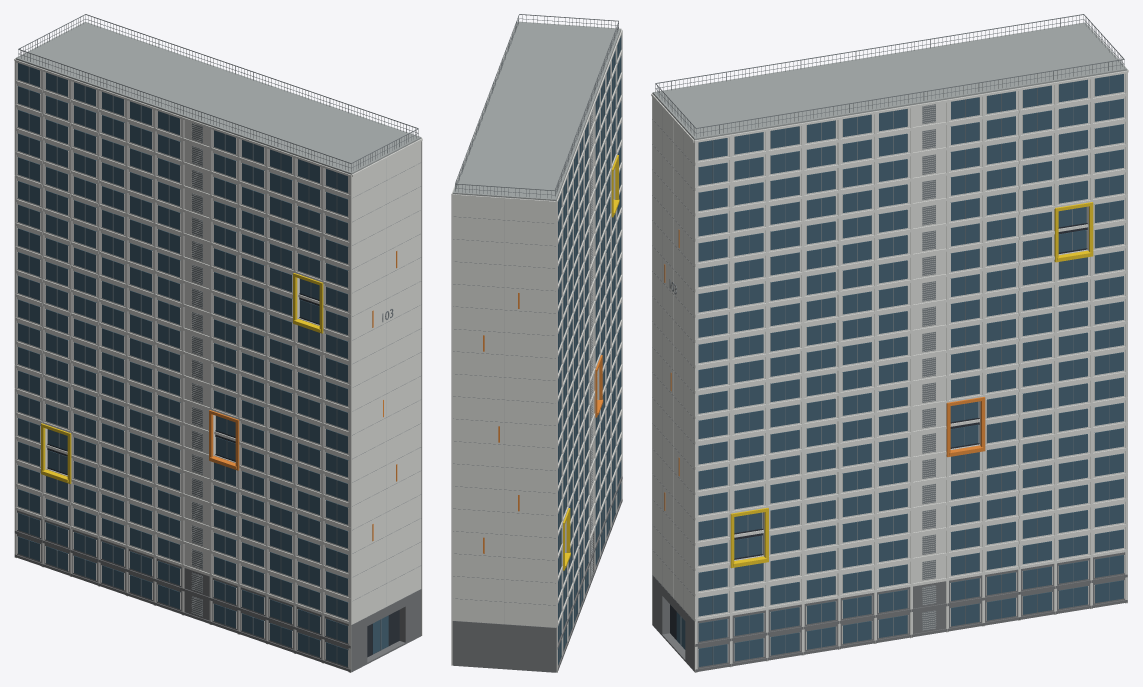
The model's file is bespoke-songpa-helio-city-103.glb.
3 renders of one model, left to right at view 1: azimuth 30°, elevation 25°; view 2: azimuth 150°, elevation 25°; view 3: azimuth 270°, elevation 25°, orthographic. The views are drawn at different scales.
Visible parts, largest first — view 1: Helio103_editable_Helio103_white_slab_frames002, Helio103_editable_Helio103_dark_blue_grey_glazing002, Helio103_editable_Helio103_low_roof_deck002, Helio103_editable_Helio103_grey_service_grille002, Helio103_editable_Helio103_dark_grey_twofloor_base002, Helio103_editable_Helio103_blankwall_grey_panels002, Helio103_editable_Helio103_yellow_projecting_rectangular_fra, Helio103_editable_Helio103_deep_shaded_frame_recess002, Helio103_editable_Helio103_orange_narrow_accent002; view 2: Helio103_editable_Helio103_white_slab_frames002, Helio103_editable_Helio103_low_roof_deck002, Helio103_editable_Helio103_dark_blue_grey_glazing002, Helio103_editable_Helio103_grey_service_grille002, Helio103_editable_Helio103_dark_grey_twofloor_base002, Helio103_editable_Helio103_blankwall_grey_panels002, Helio103_editable_Helio103_yellow_projecting_rectangular_fra, Helio103_editable_Helio103_orange_narrow_accent002; view 3: Helio103_editable_Helio103_dark_blue_grey_glazing002, Helio103_editable_Helio103_white_slab_frames002, Helio103_editable_Helio103_low_roof_deck002, Helio103_editable_Helio103_grey_service_grille002, Helio103_editable_Helio103_dark_grey_twofloor_base002, Helio103_editable_Helio103_blankwall_grey_panels002, Helio103_editable_Helio103_yellow_projecting_rectangular_fra, Helio103_editable_Helio103_orange_narrow_accent002, Helio103_editable_Helio103_deep_shaded_frame_recess002.
Boxes of the visible parts, x1=… form: Helio103_editable_Helio103_white_slab_frames002: x1=14, y1=58, x2=422, y2=672; Helio103_editable_Helio103_dark_blue_grey_glazing002: x1=18, y1=63, x2=388, y2=666; Helio103_editable_Helio103_low_roof_deck002: x1=15, y1=22, x2=421, y2=174; Helio103_editable_Helio103_grey_service_grille002: x1=18, y1=14, x2=421, y2=663; Helio103_editable_Helio103_dark_grey_twofloor_base002: x1=14, y1=510, x2=421, y2=672; Helio103_editable_Helio103_blankwall_grey_panels002: x1=191, y1=123, x2=386, y2=615; Helio103_editable_Helio103_yellow_projecting_rectangular_fra: x1=41, y1=273, x2=323, y2=483; Helio103_editable_Helio103_deep_shaded_frame_recess002: x1=47, y1=293, x2=399, y2=657; Helio103_editable_Helio103_orange_narrow_accent002: x1=209, y1=251, x2=397, y2=541; Helio103_editable_Helio103_white_slab_frames002: x1=451, y1=23, x2=622, y2=672; Helio103_editable_Helio103_low_roof_deck002: x1=452, y1=21, x2=621, y2=200; Helio103_editable_Helio103_dark_blue_grey_glazing002: x1=558, y1=35, x2=621, y2=664; Helio103_editable_Helio103_grey_service_grille002: x1=453, y1=14, x2=619, y2=661; Helio103_editable_Helio103_dark_grey_twofloor_base002: x1=452, y1=476, x2=622, y2=672; Helio103_editable_Helio103_blankwall_grey_panels002: x1=504, y1=110, x2=593, y2=623; Helio103_editable_Helio103_yellow_projecting_rectangular_fra: x1=561, y1=155, x2=619, y2=570; Helio103_editable_Helio103_orange_narrow_accent002: x1=483, y1=292, x2=603, y2=553; Helio103_editable_Helio103_dark_blue_grey_glazing002: x1=676, y1=74, x2=1123, y2=666; Helio103_editable_Helio103_white_slab_frames002: x1=651, y1=24, x2=1128, y2=672; Helio103_editable_Helio103_low_roof_deck002: x1=652, y1=22, x2=1127, y2=139; Helio103_editable_Helio103_grey_service_grille002: x1=652, y1=14, x2=1124, y2=664; Helio103_editable_Helio103_dark_grey_twofloor_base002: x1=652, y1=552, x2=1127, y2=672; Helio103_editable_Helio103_blankwall_grey_panels002: x1=662, y1=105, x2=935, y2=630; Helio103_editable_Helio103_yellow_projecting_rectangular_fra: x1=730, y1=202, x2=1093, y2=568; Helio103_editable_Helio103_orange_narrow_accent002: x1=664, y1=229, x2=985, y2=510; Helio103_editable_Helio103_deep_shaded_frame_recess002: x1=670, y1=207, x2=1087, y2=639.
Bounding box in the file's own units: 27.81 × 59.8 × 47.64.
